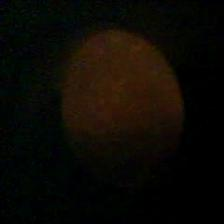fertile: (56, 26, 188, 190)
